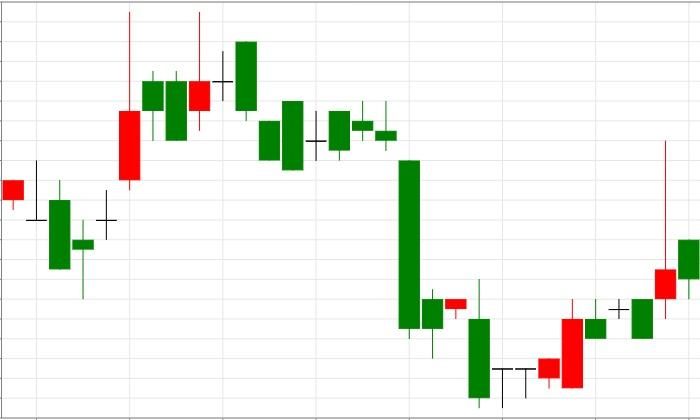shooting_star_fall: (72, 12, 211, 299), (537, 139, 677, 389)
